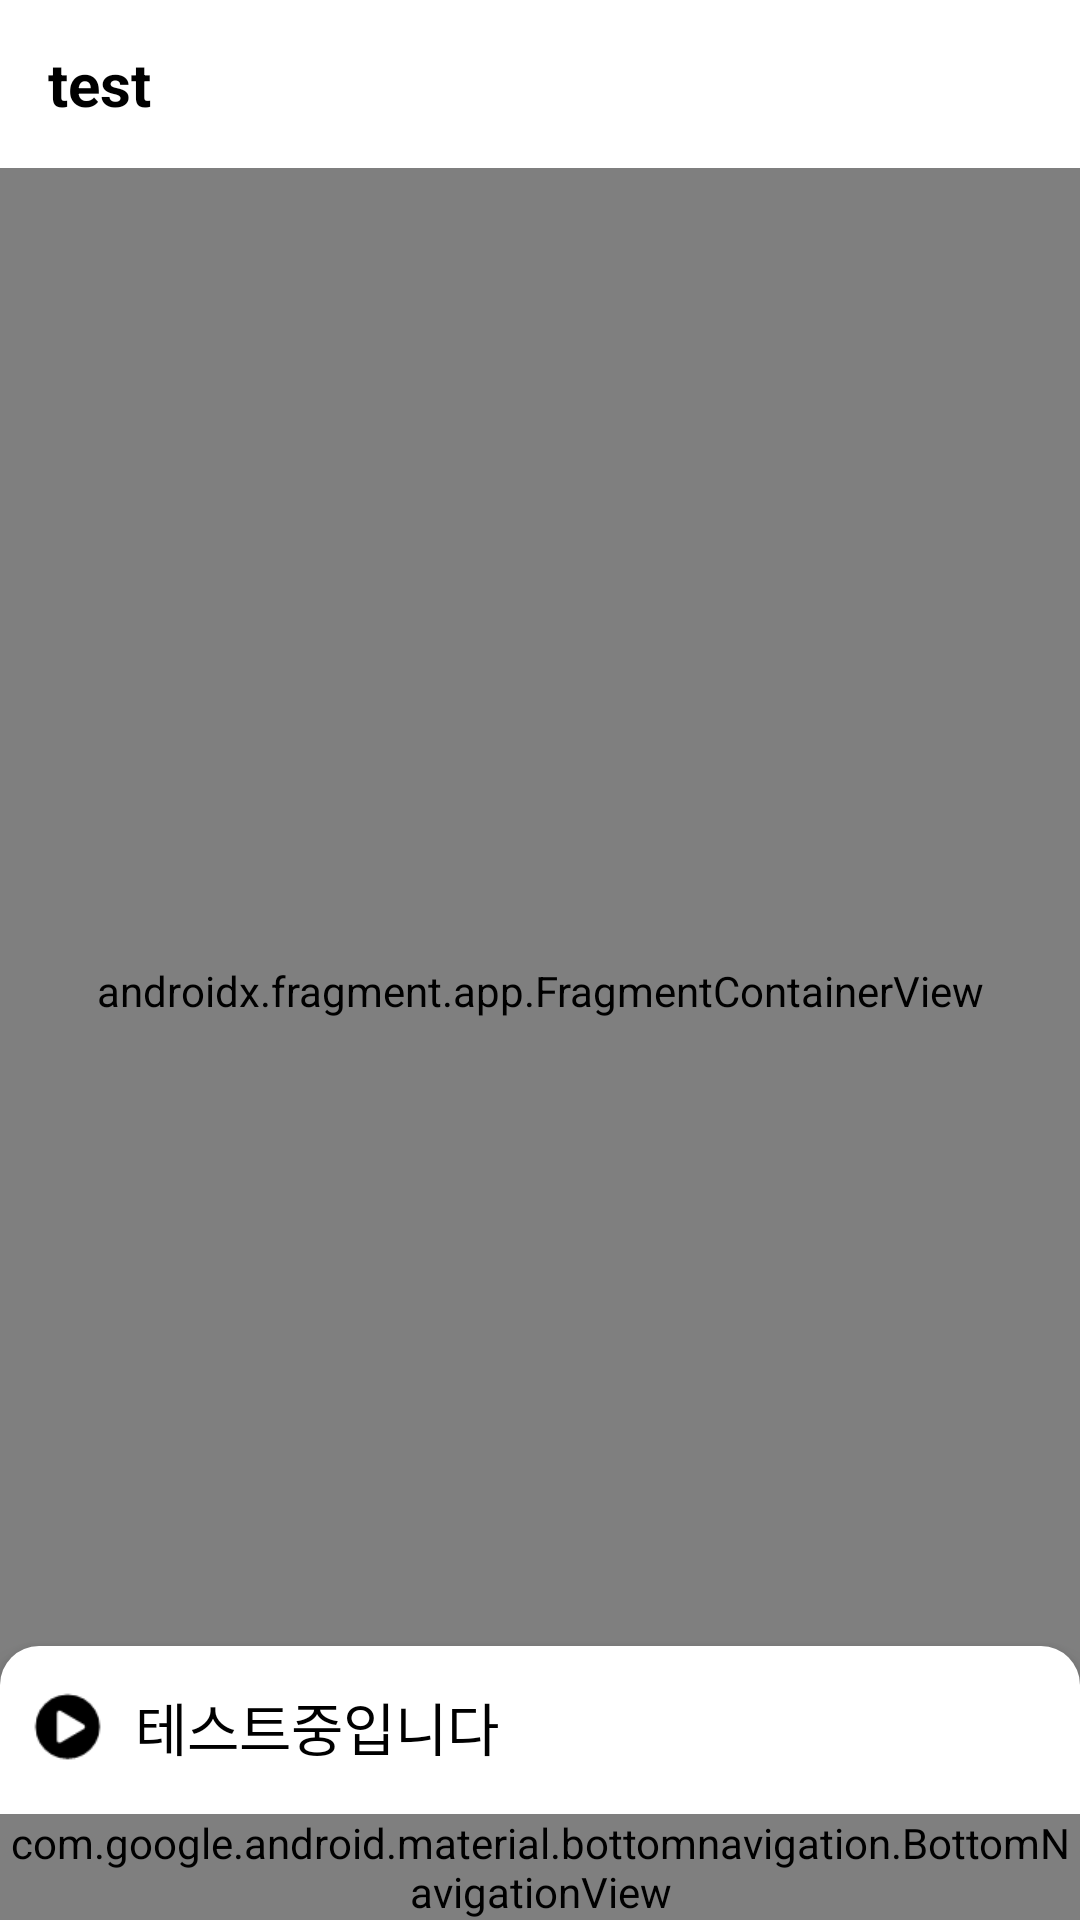

Icon click points for this 1080x1920 phone screenshot, format (x,y):
play: (67,1726)
